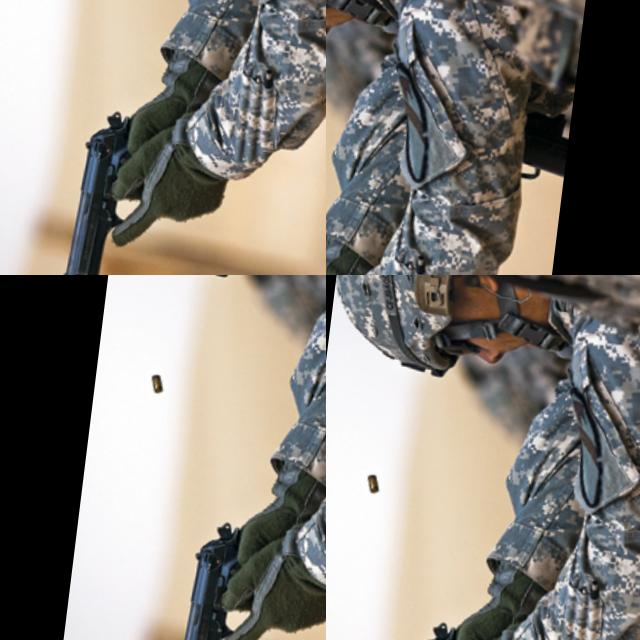handgun: (78, 355, 326, 640), (397, 0, 529, 79)
